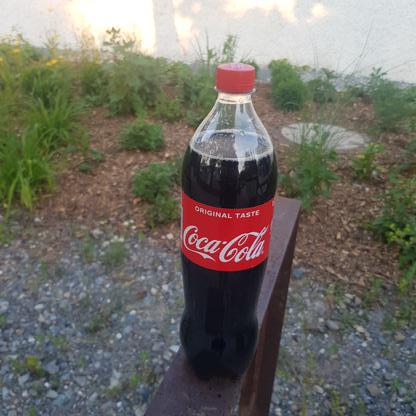coca-cola: (179, 58, 280, 383)
